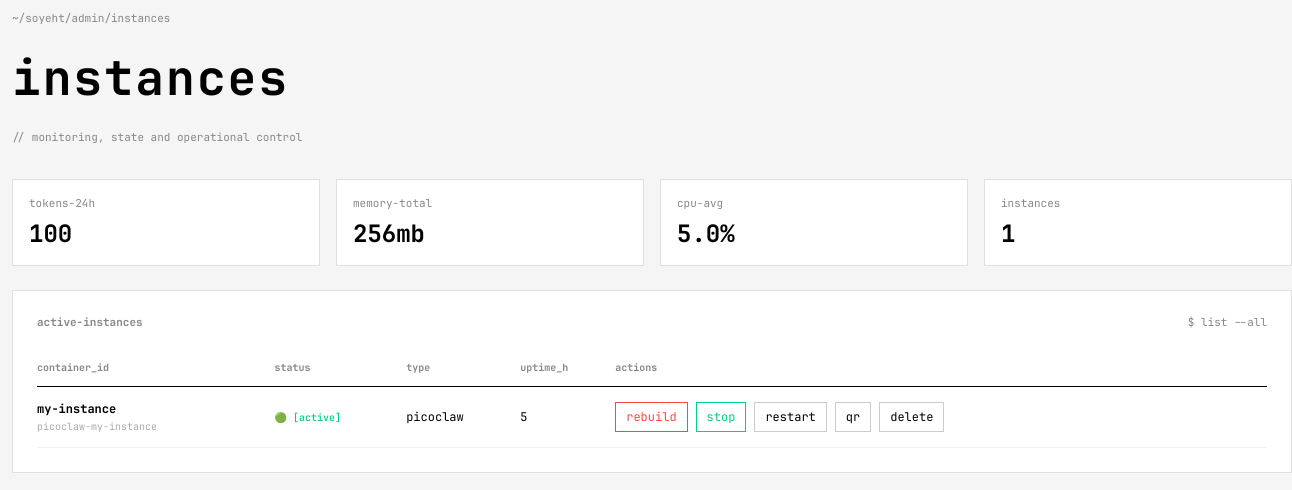
it: InstancesPage › shows 'deleting…' while delete is in-flight
Check: the text "picoclaw-my-instance" is shown, box x1=37 y1=420 x2=157 y2=433
Click the button "delete" at x=912, y=417, box x1=879 y1=402 x2=944 y2=432
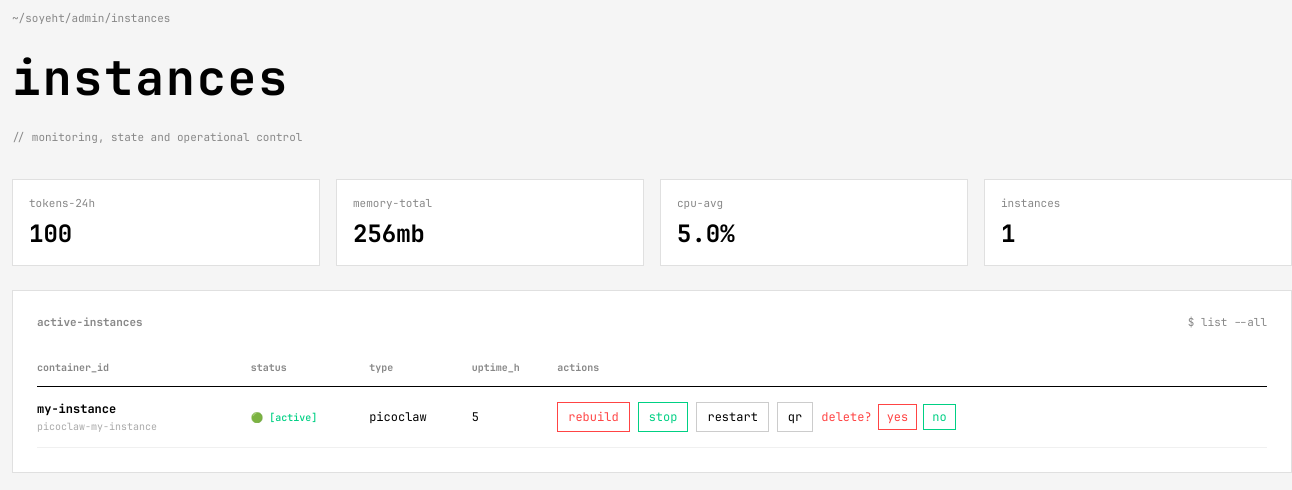
Click the button "yes" at x=898, y=417, box x1=878 y1=404 x2=917 y2=430
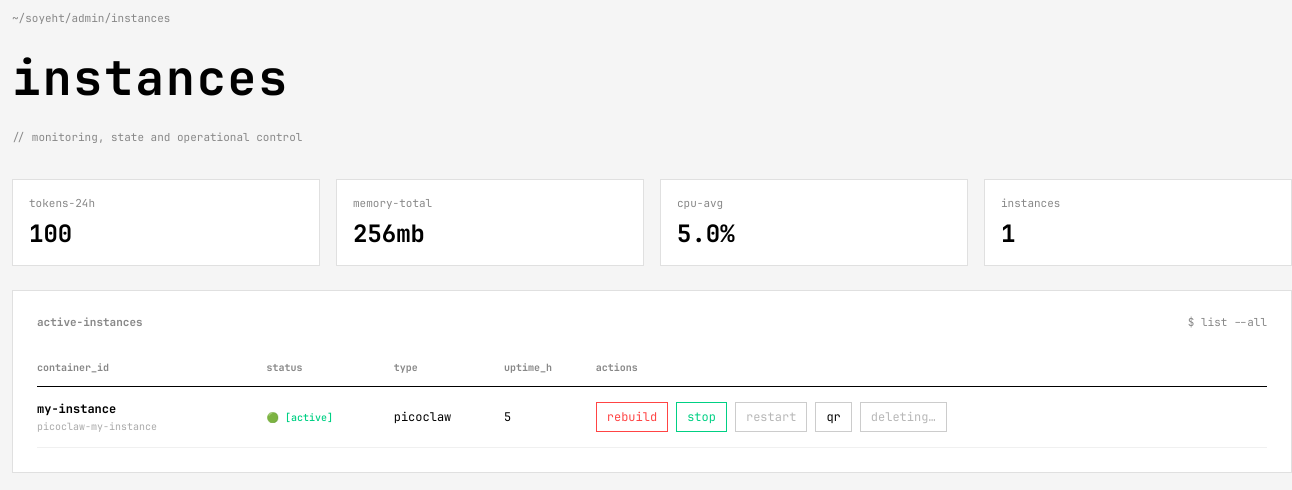
Check: the button "deleting…" is shown, box x1=860 y1=402 x2=947 y2=432
